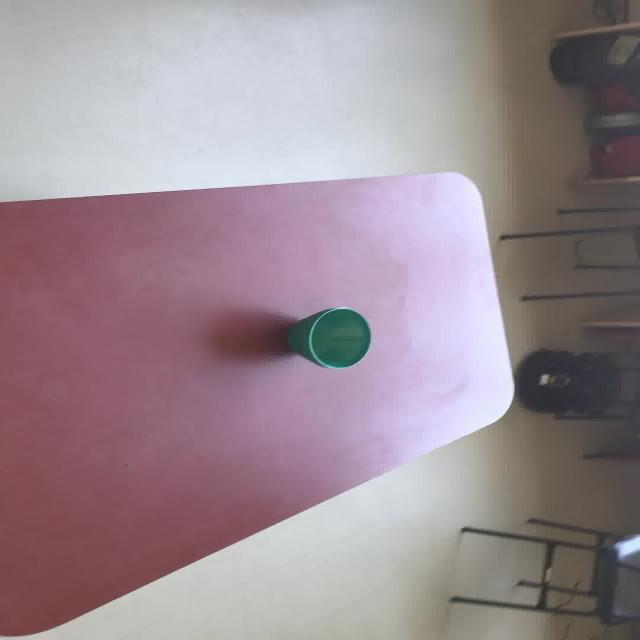bowl: (515, 348, 616, 414), (284, 306, 371, 369)
